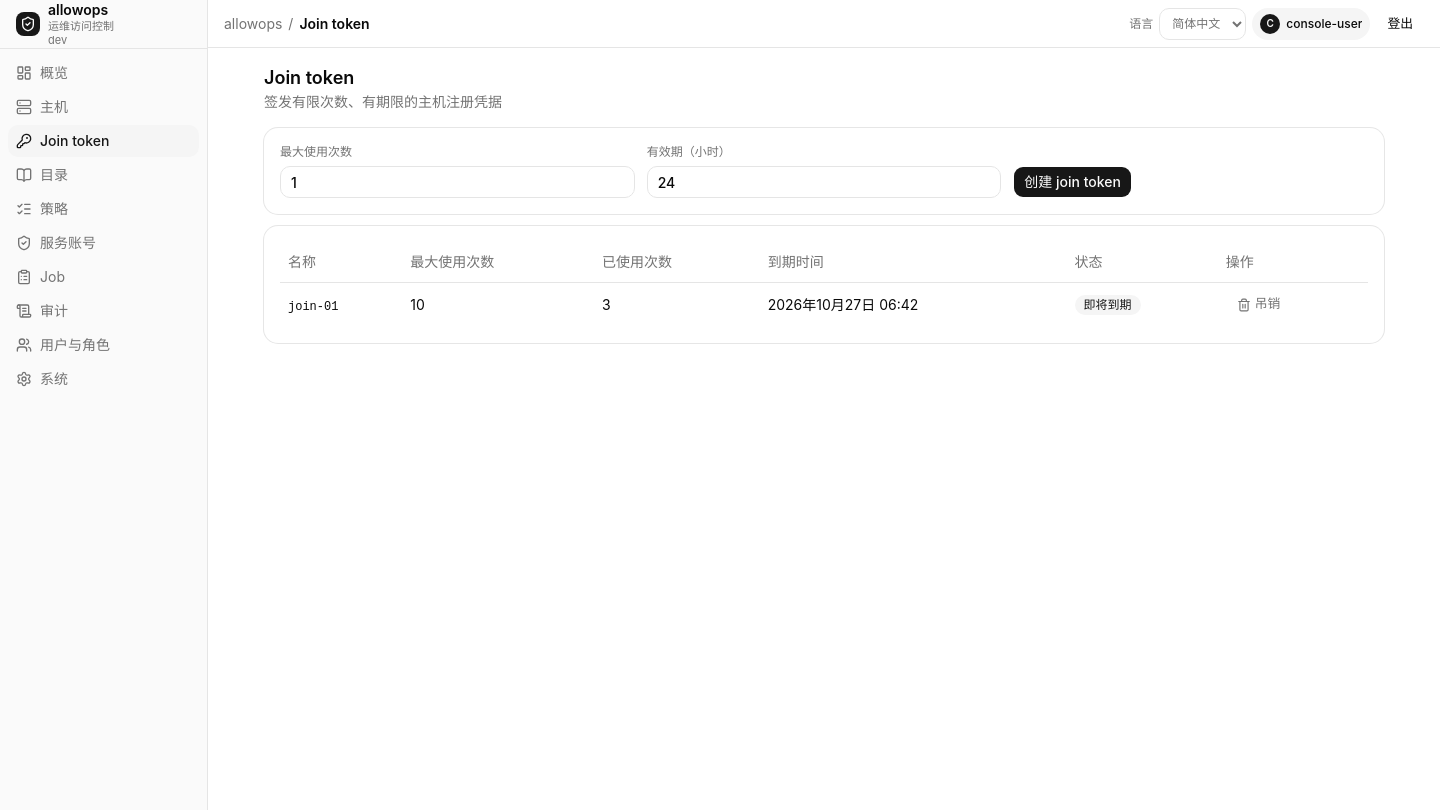
console pages › creates a join token and hides it after dismissal
Expected: the heading "Join token" is shown, [264,67,354,88]
Click the button "创建 join token" at (1073, 182), box [1013,166,1132,198]
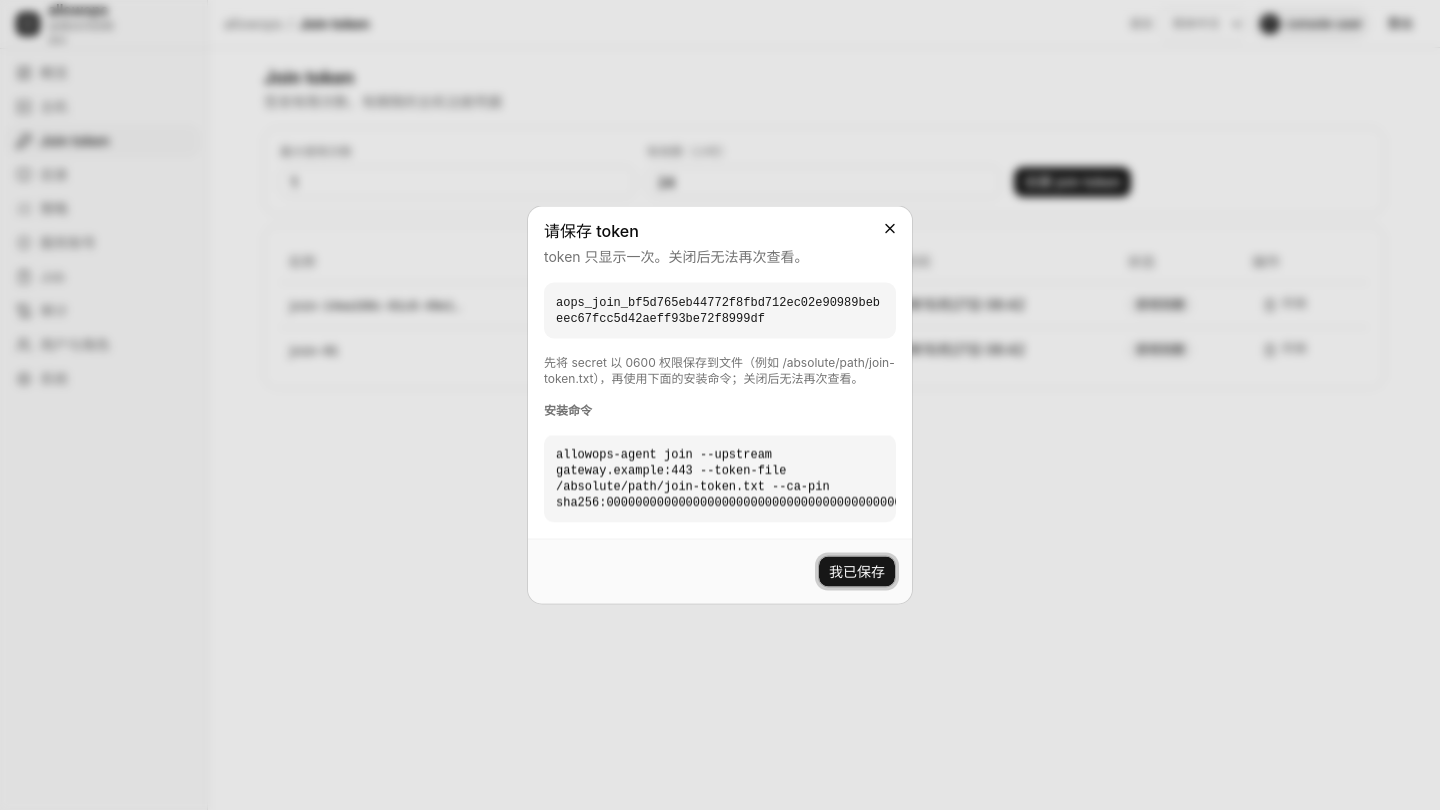
Now the text "allowops-agent join" is shown, box [556,448,912,510]
Click the button "我已保存" at (857, 572), box [818,556,896,588]
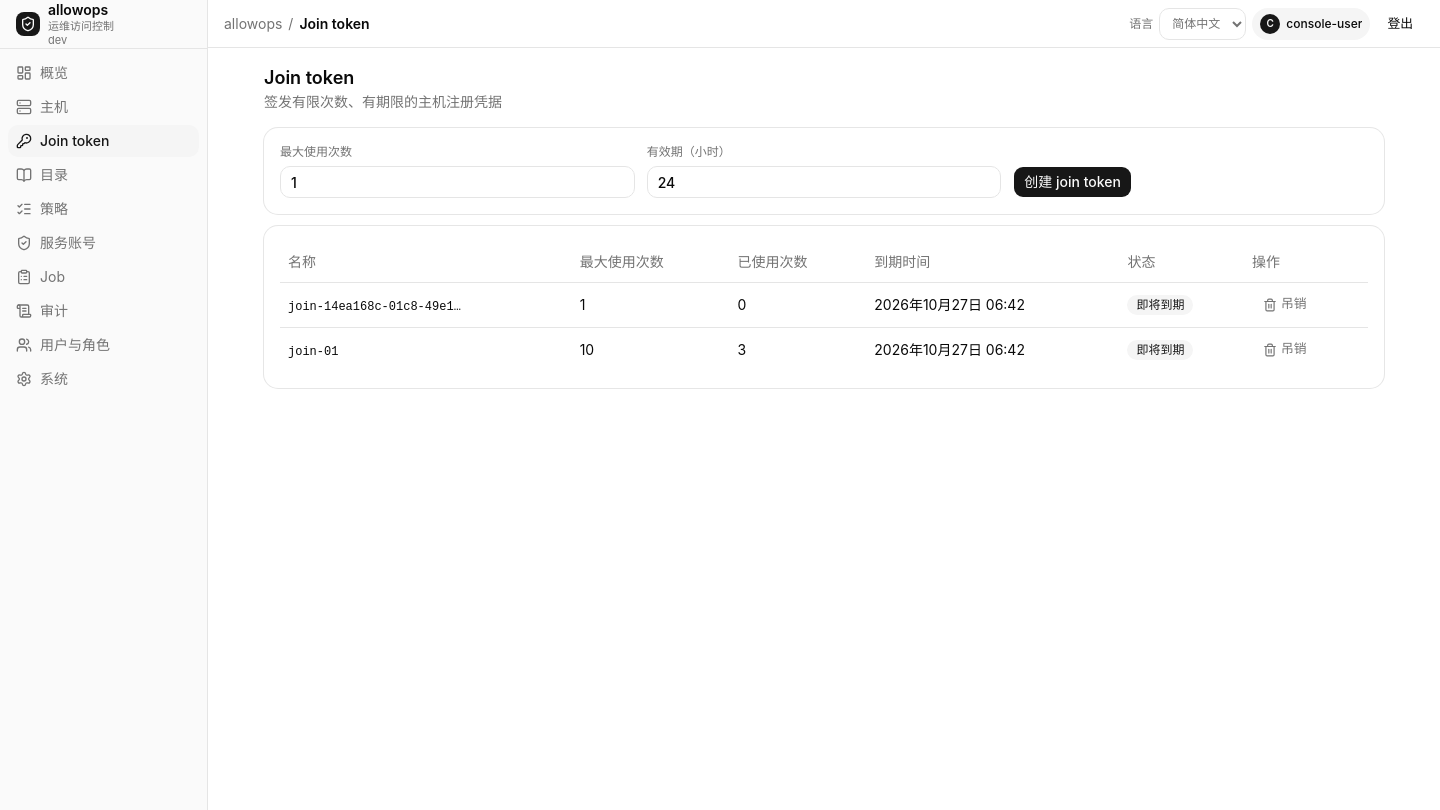
Now the dialog is gone
Now the text "aops_join_" is gone
